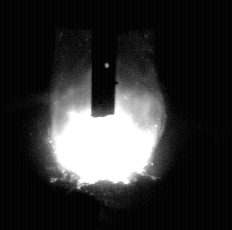arame: (91, 0, 117, 117)
poca: (49, 0, 160, 230)
